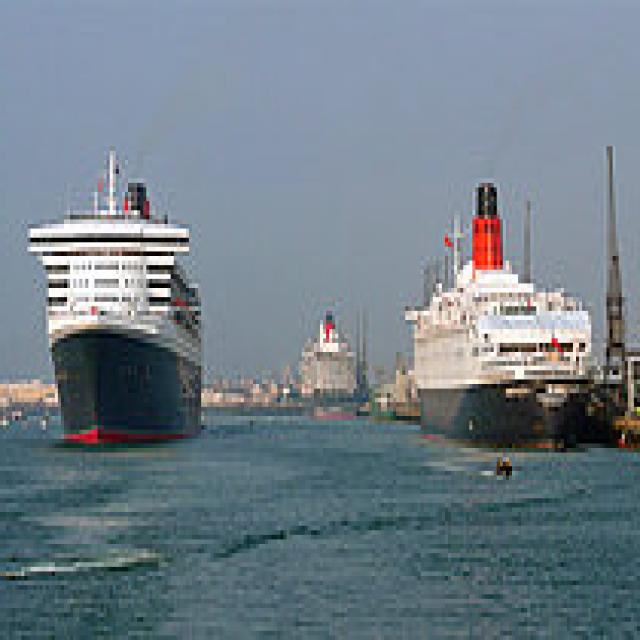Cruise: (28, 142, 208, 448), (406, 174, 600, 452), (302, 302, 366, 421)
